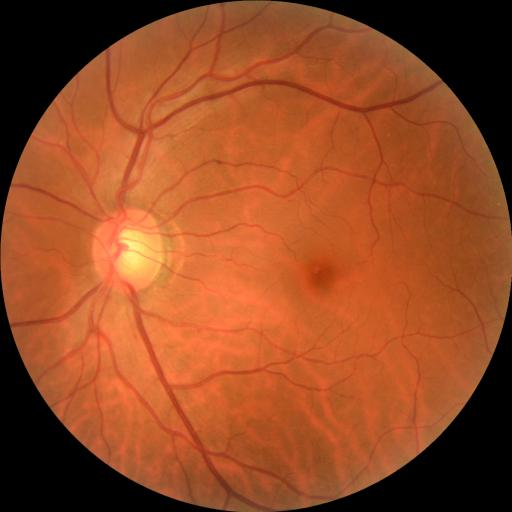Optic Cup: (112, 229, 150, 273)
Optic Disc: (92, 208, 162, 293)
